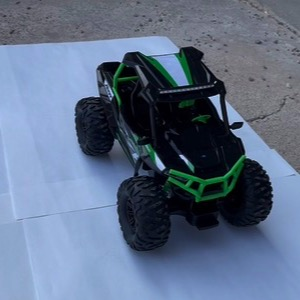polaris: (73, 46, 276, 252)
